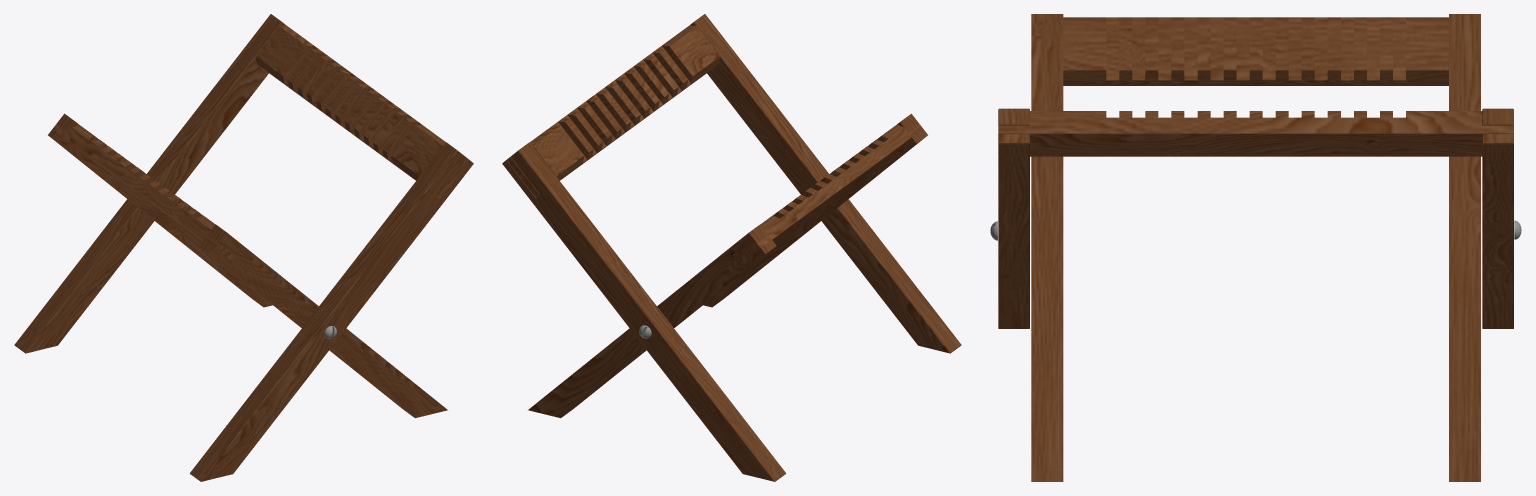
The model's file is AAH_dryingrack.glb.
The picture shows the model from 3 angles, left to right: view 1: azimuth 30°, elevation 25°; view 2: azimuth 150°, elevation 25°; view 3: azimuth 270°, elevation 25°; orthographic projection. The views are drawn at different scales.
Parts seen in each view (by area): view 1: dryingrack_uv; view 2: dryingrack_uv; view 3: dryingrack_uv.
Boxes of the visible parts, bbox=[...] form: dryingrack_uv: bbox=[14, 14, 473, 481]; dryingrack_uv: bbox=[502, 14, 961, 481]; dryingrack_uv: bbox=[990, 14, 1521, 481].
Bounding box in the file's own units: 10.39 × 9.79 × 12.69.
Materials: 3 (3 with a texture image).
